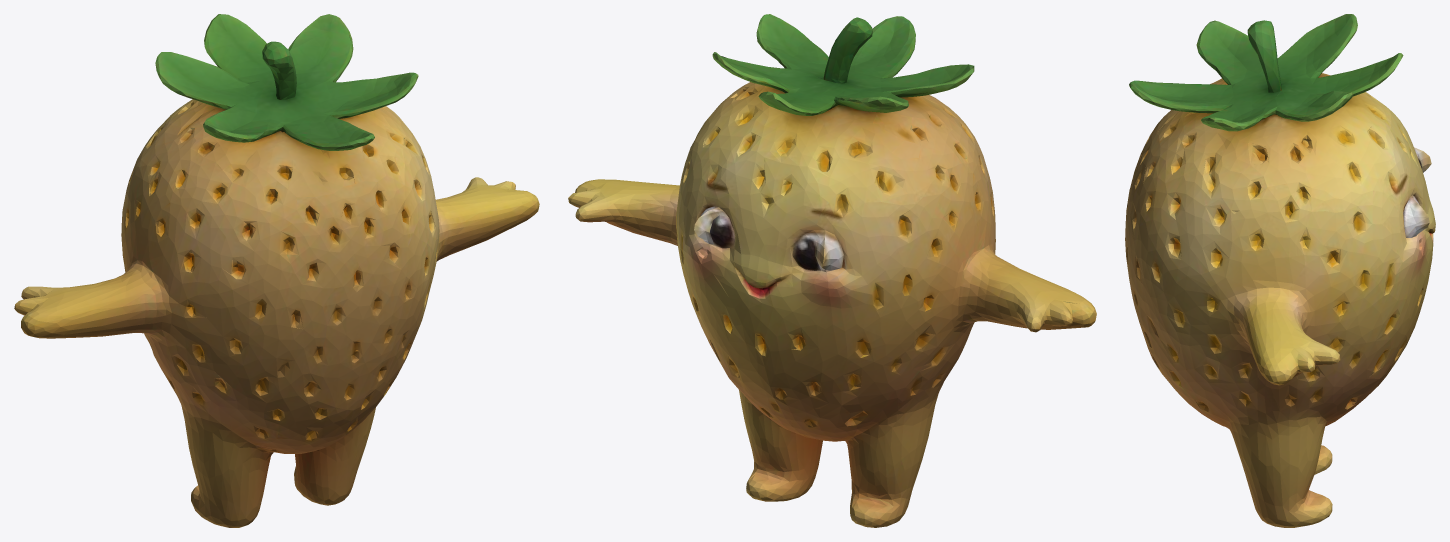
File: cilek.glb
3 views of the same model, side by side, from view 1: azimuth 30°, elevation 25°; view 2: azimuth 150°, elevation 25°; view 3: azimuth 270°, elevation 25° (orthographic). The views are drawn at different scales.
Parts seen in each view (by area): view 1: world; view 2: world; view 3: world.
Boxes of the visible parts, box(x1,y1,x2,y2) form: world: box(14, 14, 539, 527); world: box(568, 14, 1096, 527); world: box(1125, 14, 1435, 527).
Bounding box in the file's own units: 1 × 0.8927 × 0.5334.
1 material, 1 textured.
